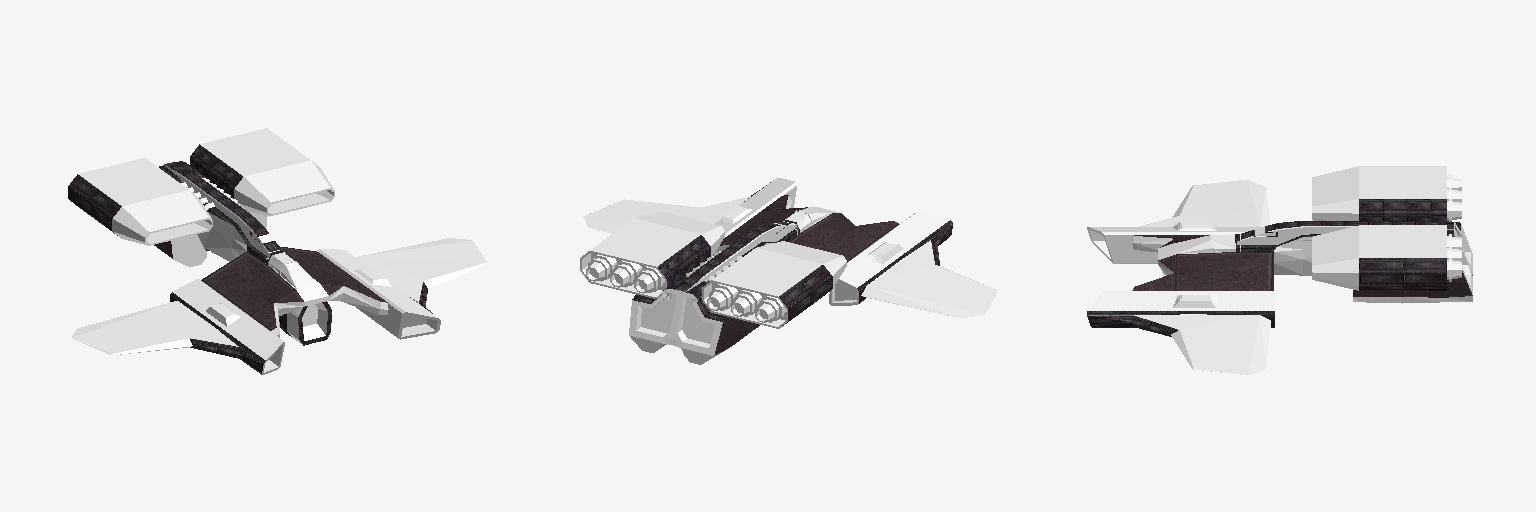
3 views of the same model, side by side, from view 1: azimuth 30°, elevation 25°; view 2: azimuth 150°, elevation 25°; view 3: azimuth 270°, elevation 25° (orthographic).
Visible parts, largest first — view 1: Hyperion_Heavy; view 2: Hyperion_Heavy; view 3: Hyperion_Heavy.
Part boxes in pixels (x1,y1,x2,y2): Hyperion_Heavy: (68, 128, 487, 374); Hyperion_Heavy: (580, 178, 999, 364); Hyperion_Heavy: (1087, 166, 1472, 375).
Size of the model in its own units: 254 by 52.83 by 211.
9 materials, 2 textured.